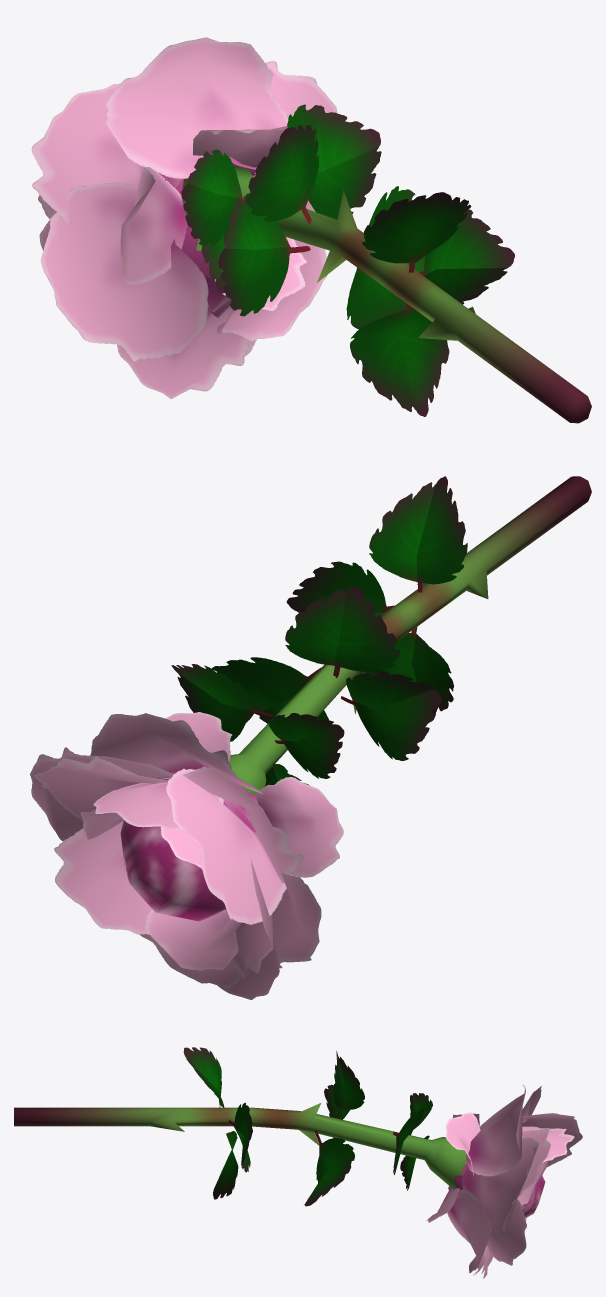
Rendered from SM_Rose_PastellPink_WideOpen.fbx.
3 views of the same model, one above another, from view 1: azimuth 30°, elevation 25°; view 2: azimuth 150°, elevation 25°; view 3: azimuth 270°, elevation 25° (orthographic). The views are drawn at different scales.
Visible parts, largest first — view 1: Rose_PastellPink_WideOpen; view 2: Rose_PastellPink_WideOpen; view 3: Rose_PastellPink_WideOpen.
Boxes of the visible parts, box(x1,y1,x2,y2) form: Rose_PastellPink_WideOpen: box(31, 37, 591, 423); Rose_PastellPink_WideOpen: box(30, 476, 591, 999); Rose_PastellPink_WideOpen: box(14, 1047, 582, 1278).
Size of the model in its own units: 52.56 by 59.81 by 130.
